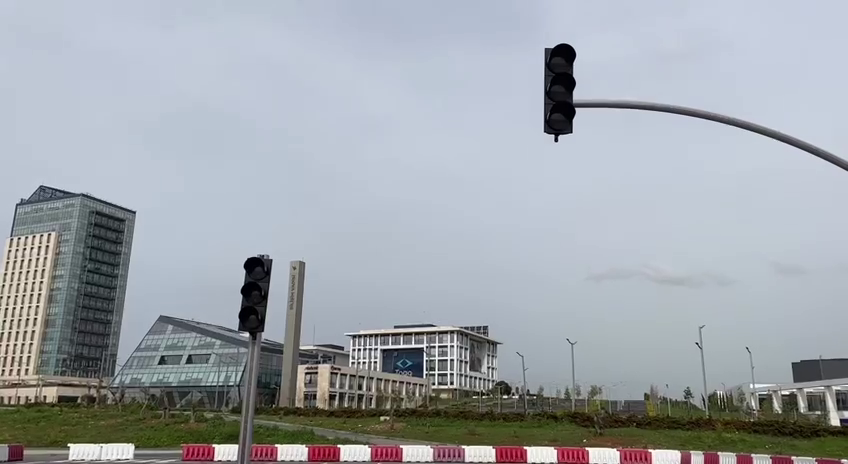trafficLight: (537, 36, 581, 145), (235, 251, 275, 334)
